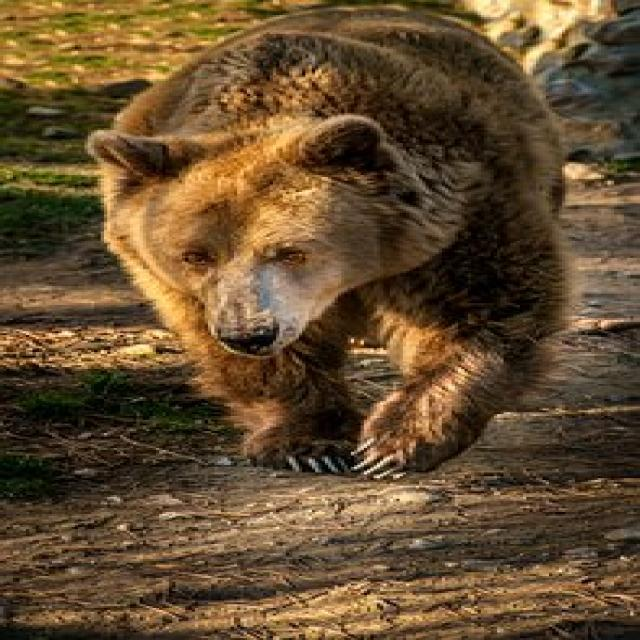Bear: (84, 6, 582, 480)
